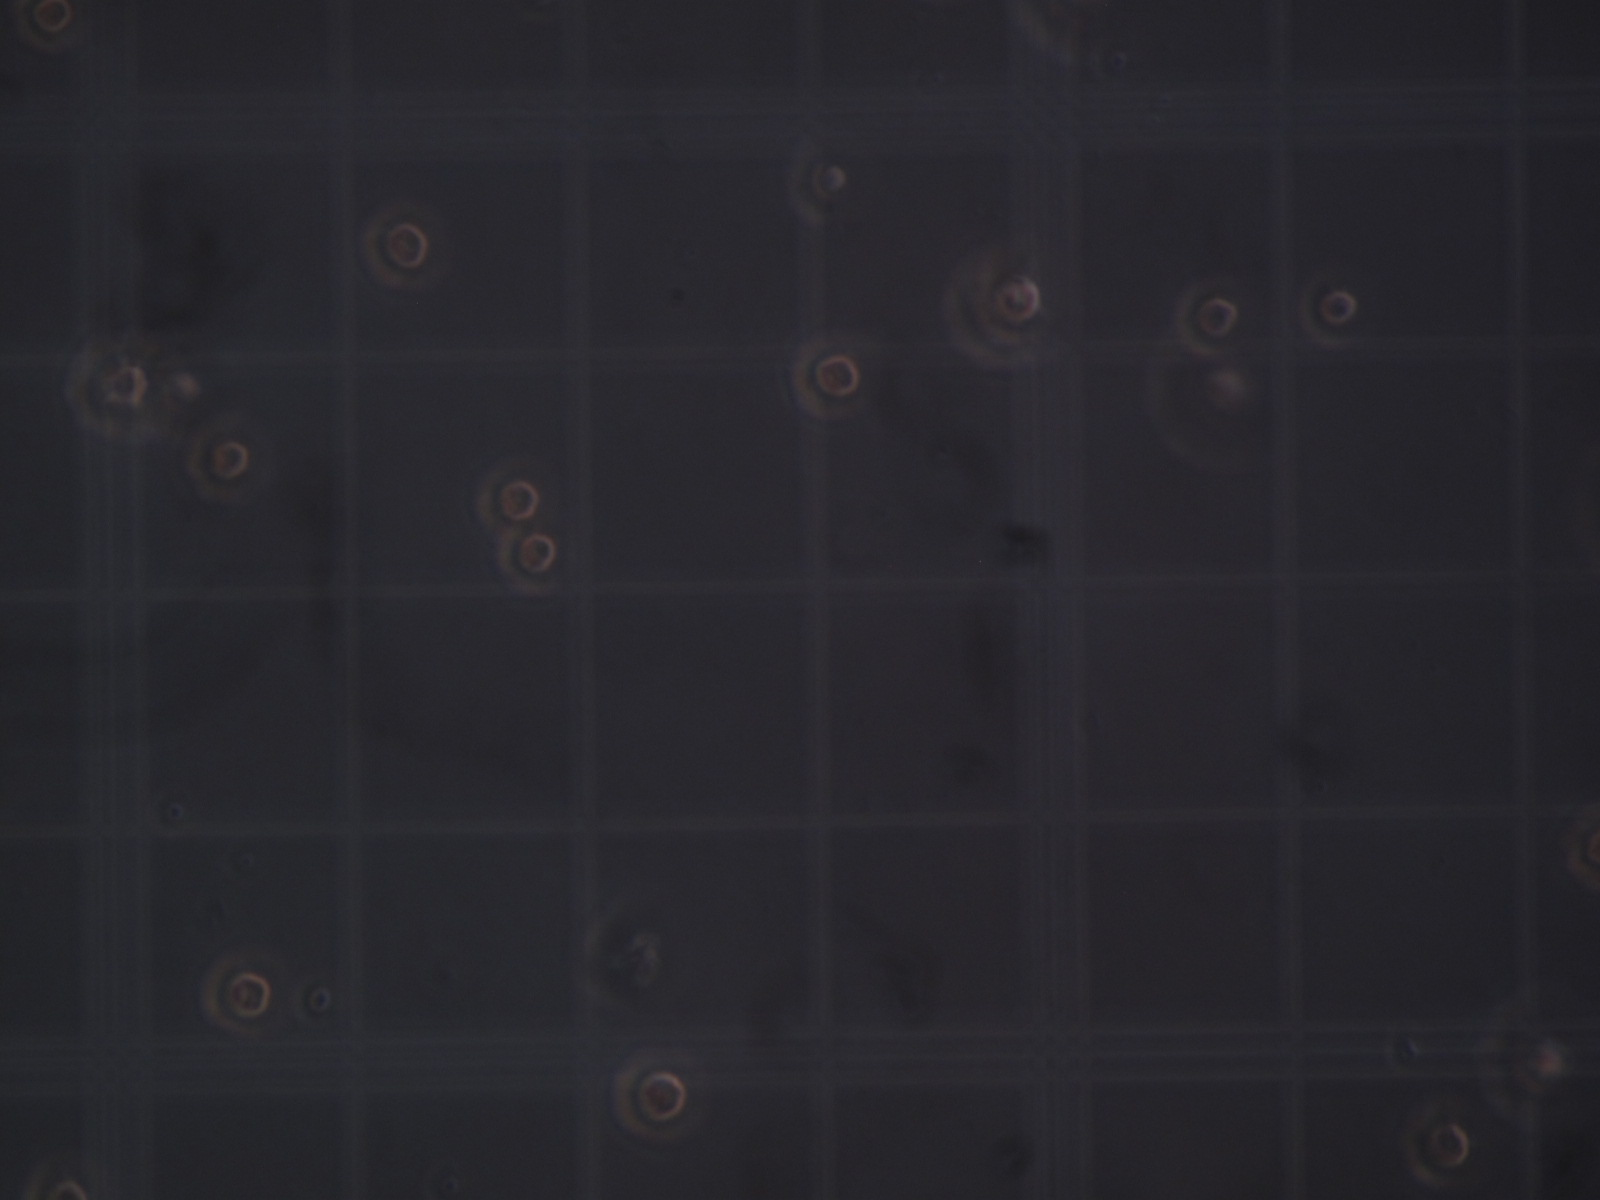hemo: (944, 253, 1044, 369), (64, 340, 147, 437), (612, 1058, 687, 1141), (1401, 1104, 1470, 1187), (200, 955, 271, 1034), (791, 340, 860, 420), (362, 211, 428, 287), (185, 424, 249, 500), (787, 147, 848, 224), (1174, 284, 1236, 358), (1299, 274, 1358, 349), (475, 466, 540, 533), (496, 529, 558, 596), (15, 1, 84, 50), (1567, 811, 1600, 890)
